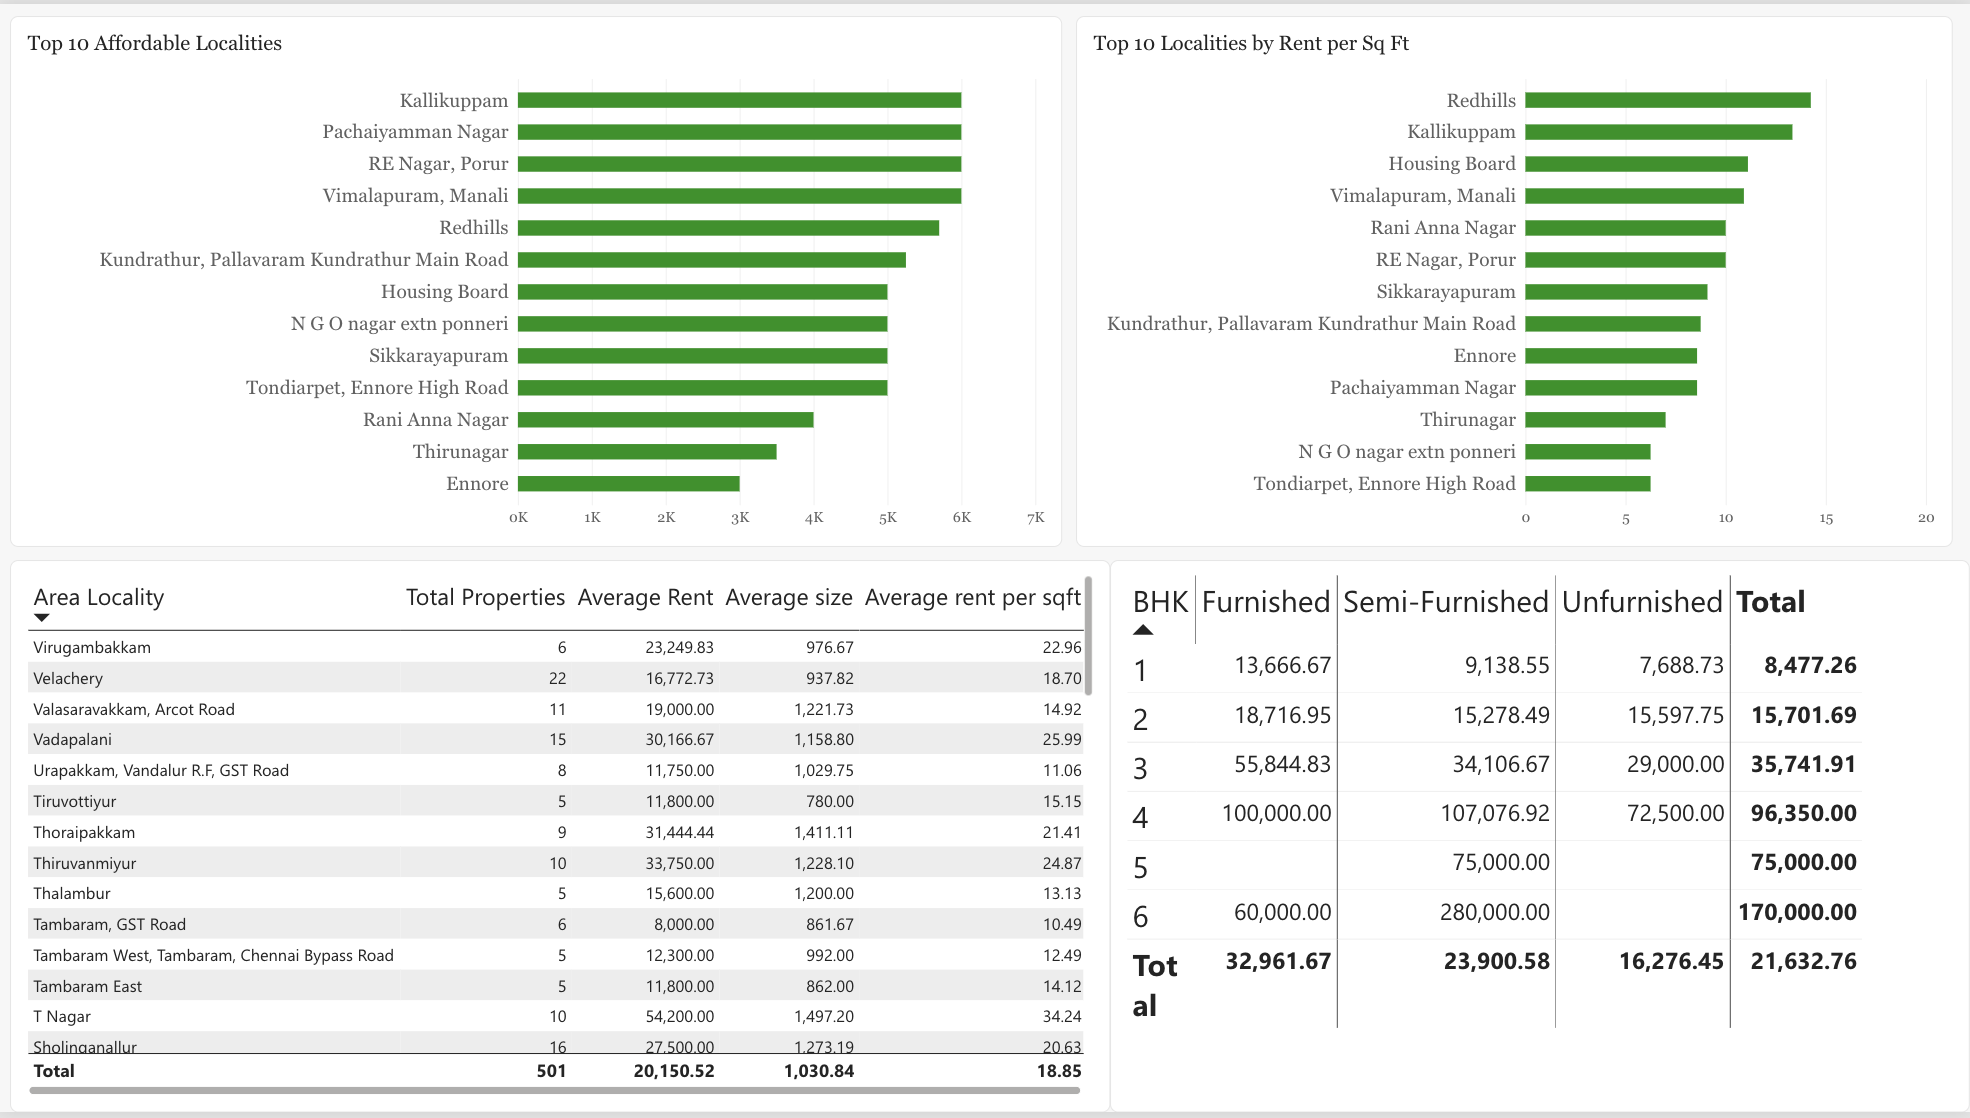

This screenshot's page, from the dashboard's own definition file:
{"tool":"powerbi","page":{"name":"Page 2","canvas":[1920,1080],"ordinal":1},"visuals":[{"type":"barChart","title":"Top 10 Affordable Localities","fields":{"Category":["Chennai_rentals.Area Locality"],"Y":["Chennai_rentals.Average Rent"]},"box":[9.5,11.9,1025.3,517.4],"z":2001},{"type":"barChart","title":"Top 10 Localities by Rent per Sq Ft","fields":{"Category":["Chennai_rentals.Area Locality"],"Y":["Chennai_rentals.Average rent per sqft"]},"box":[1049,11.9,854.4,517.4],"z":2002},{"type":"pivotTable","fields":{"Columns":["Chennai_rentals.Furnishing Status"],"Rows":["Chennai_rentals.BHK"],"Values":["Chennai_rentals.Average Rent"]},"box":[1082.2,541.1,837.8,538.7],"z":2003},{"type":"tableEx","fields":{"Values":["Chennai_rentals.Area Locality","Chennai_rentals.Total Properties","Chennai_rentals.Average Rent","Chennai_rentals.Average size","Chennai_rentals.Average rent per sqft"]},"box":[9.5,541.1,1072.7,538.7],"z":2004}]}

Visuals, with their boxes in screenshot pixels (x1, y1, x2, y2), scaled from the page's 1920x1080 canvas onto the 1970x1118 screenshot:
"Top 10 Affordable Localities" barChart: locate(10, 12, 1062, 548)
"Top 10 Localities by Rent per Sq Ft" barChart: locate(1076, 12, 1953, 548)
pivotTable - Chennai_rentals.Furnishing Status x Chennai_rentals.BHK: locate(1110, 560, 1969, 1117)
tableEx - Chennai_rentals.Area Locality x Chennai_rentals.Total Properties: locate(10, 560, 1110, 1117)
